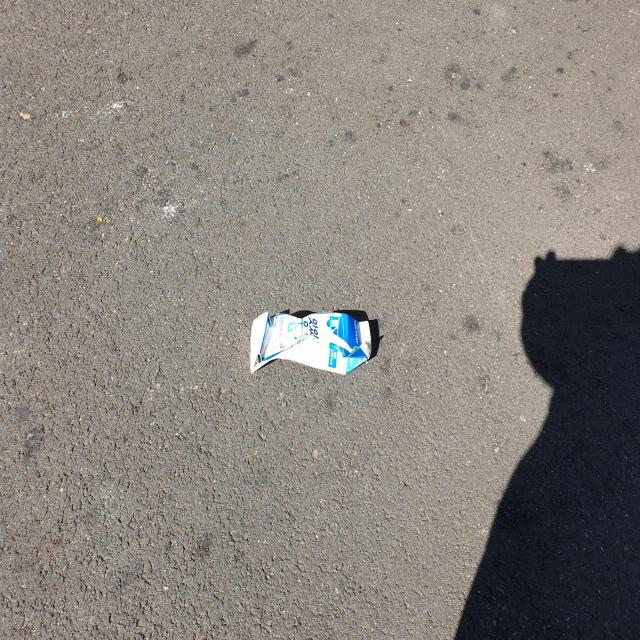paperpack: (250, 312, 372, 374)
